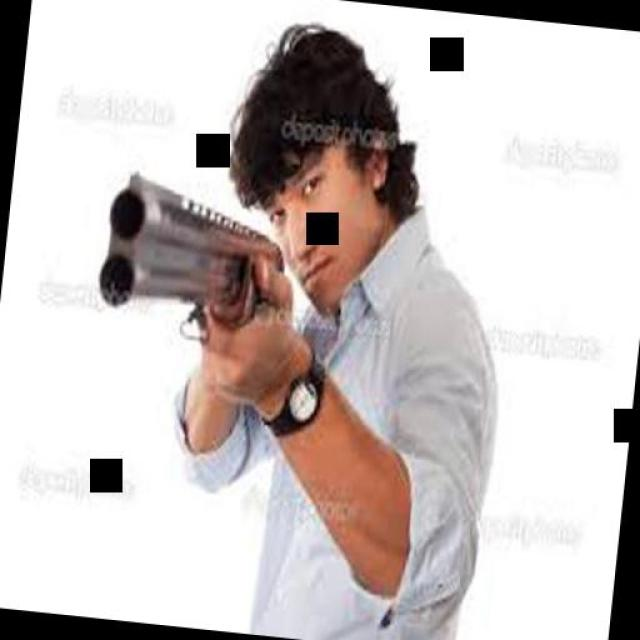gun: (81, 161, 288, 455)
